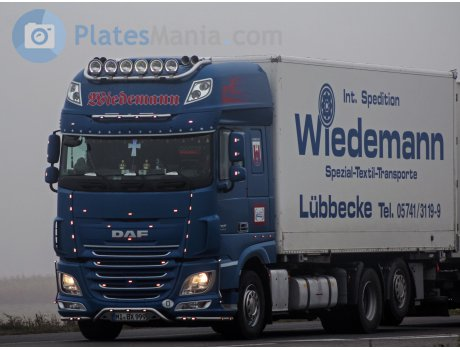License Plates: (113, 309, 146, 319)
